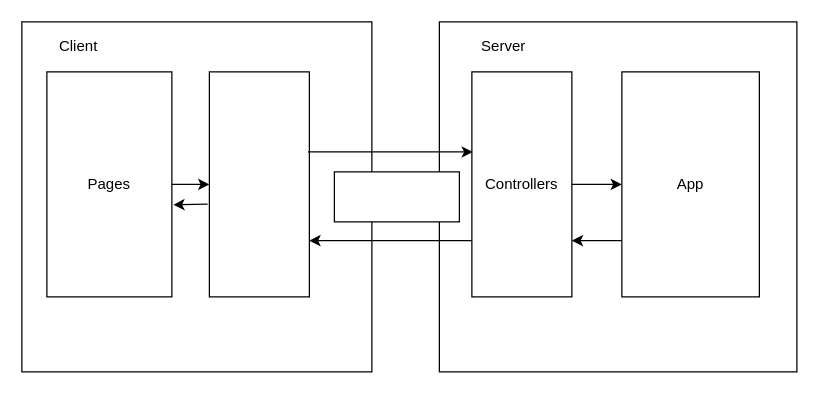
The diagram is 819 pixels wide and 394 high, and some of its shapes have lost their labels. Here are the shapes that lost their labels. From the top down, the centre of each, then its label:
[258,184]: Services
[396,196]: DTO
